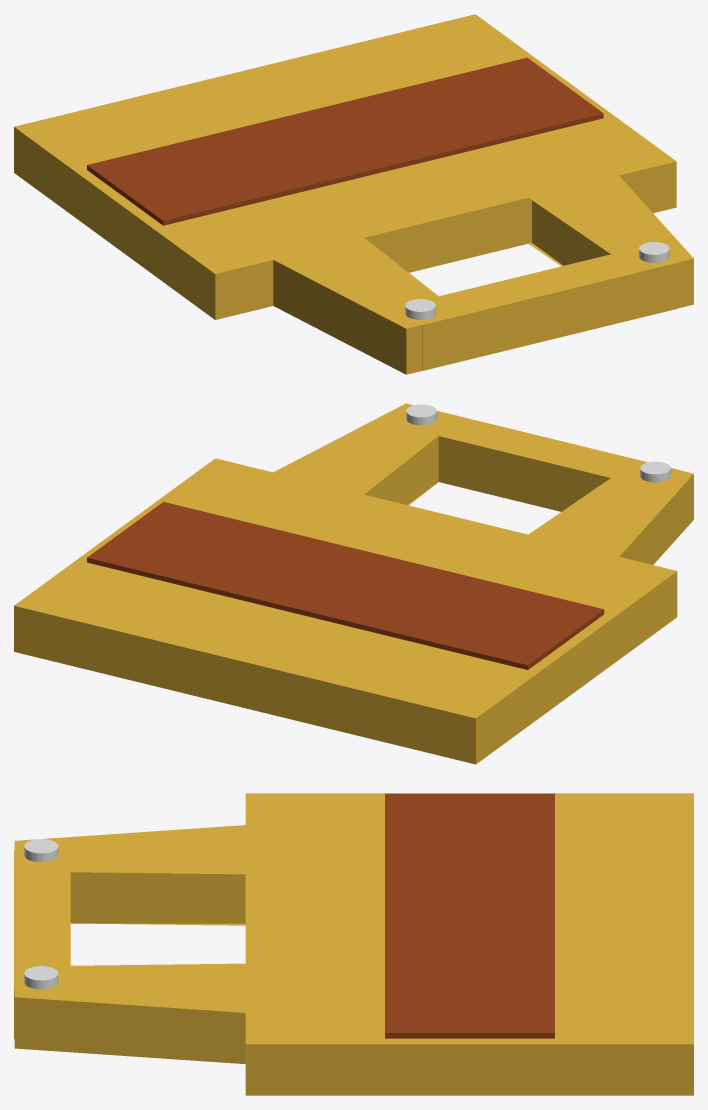
Rendered from PaperBag.fbx.
3 renders of one model, top to bottom at view 1: azimuth 30°, elevation 25°; view 2: azimuth 150°, elevation 25°; view 3: azimuth 270°, elevation 25°, orthographic. The views are drawn at different scales.
Parts seen in each view (by area): view 1: Cube, Plane, Cube.001, Cylinder, Cylinder.001; view 2: Cube, Plane, Cube.001, Cylinder.001, Cylinder; view 3: Cube, Plane, Cube.001, Cylinder.001, Cylinder.
Boxes of the visible parts, box(x1,y1,x2,y2) form: Cube: box(14, 14, 693, 374); Plane: box(87, 57, 603, 225); Cube.001: box(422, 254, 676, 370); Cylinder: box(639, 242, 669, 262); Cylinder.001: box(405, 299, 435, 319); Cube: box(14, 403, 693, 764); Plane: box(87, 502, 604, 669); Cube.001: box(438, 411, 677, 511); Cylinder.001: box(640, 461, 670, 482); Cylinder: box(406, 404, 436, 425); Cube: box(14, 793, 693, 1095); Plane: box(385, 793, 554, 1038); Cube.001: box(14, 850, 70, 1038); Cylinder.001: box(24, 839, 58, 862); Cylinder: box(24, 966, 58, 989).
Bounding box in the file's own units: 265 × 31.97 × 303.
